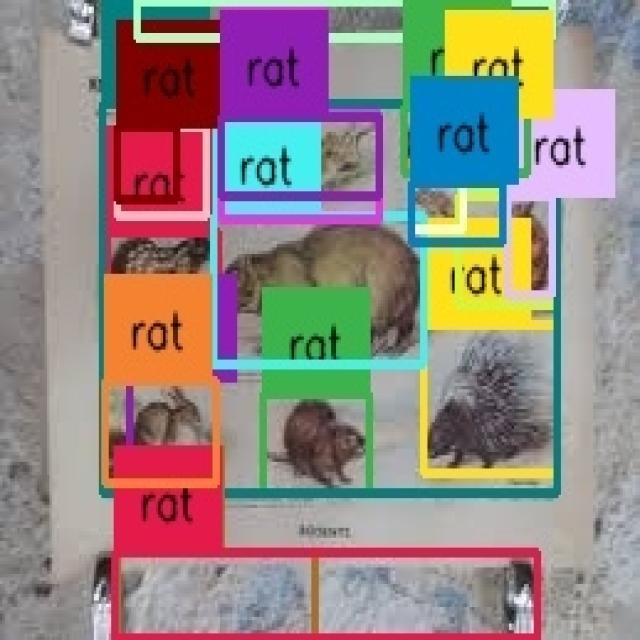rat: (104, 105, 558, 495), (115, 554, 537, 640), (215, 215, 423, 366), (423, 325, 556, 473), (117, 554, 315, 640), (221, 115, 379, 218), (137, 0, 552, 36), (222, 115, 378, 198), (106, 234, 220, 340), (105, 379, 216, 485), (458, 194, 555, 304), (262, 394, 368, 493), (403, 106, 529, 172), (130, 381, 216, 473), (118, 126, 206, 214), (412, 183, 502, 243), (506, 194, 554, 294), (446, 114, 528, 170), (117, 127, 177, 200), (412, 183, 464, 229), (446, 115, 491, 168), (404, 109, 441, 162)
